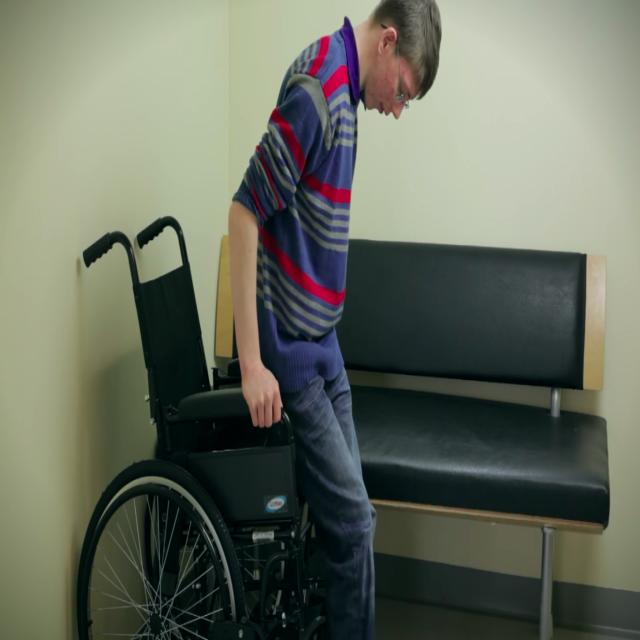wheelchairs: (79, 213, 315, 640)
